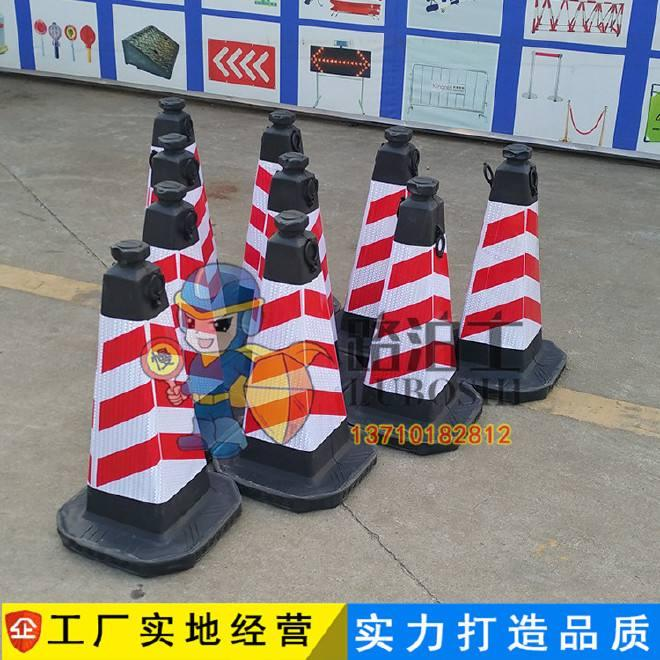sign: (68, 235, 235, 574), (231, 209, 354, 504), (461, 146, 582, 402), (371, 172, 471, 453)
